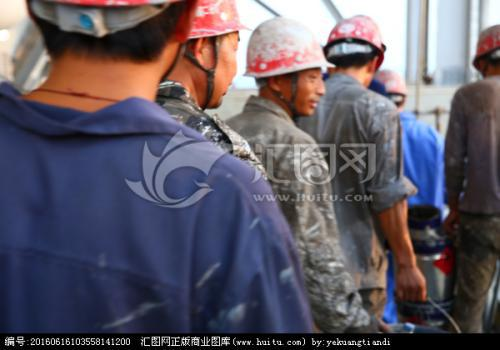helmet: (154, 1, 247, 121), (245, 18, 329, 117), (321, 11, 387, 89), (466, 22, 499, 84), (372, 67, 415, 113)
